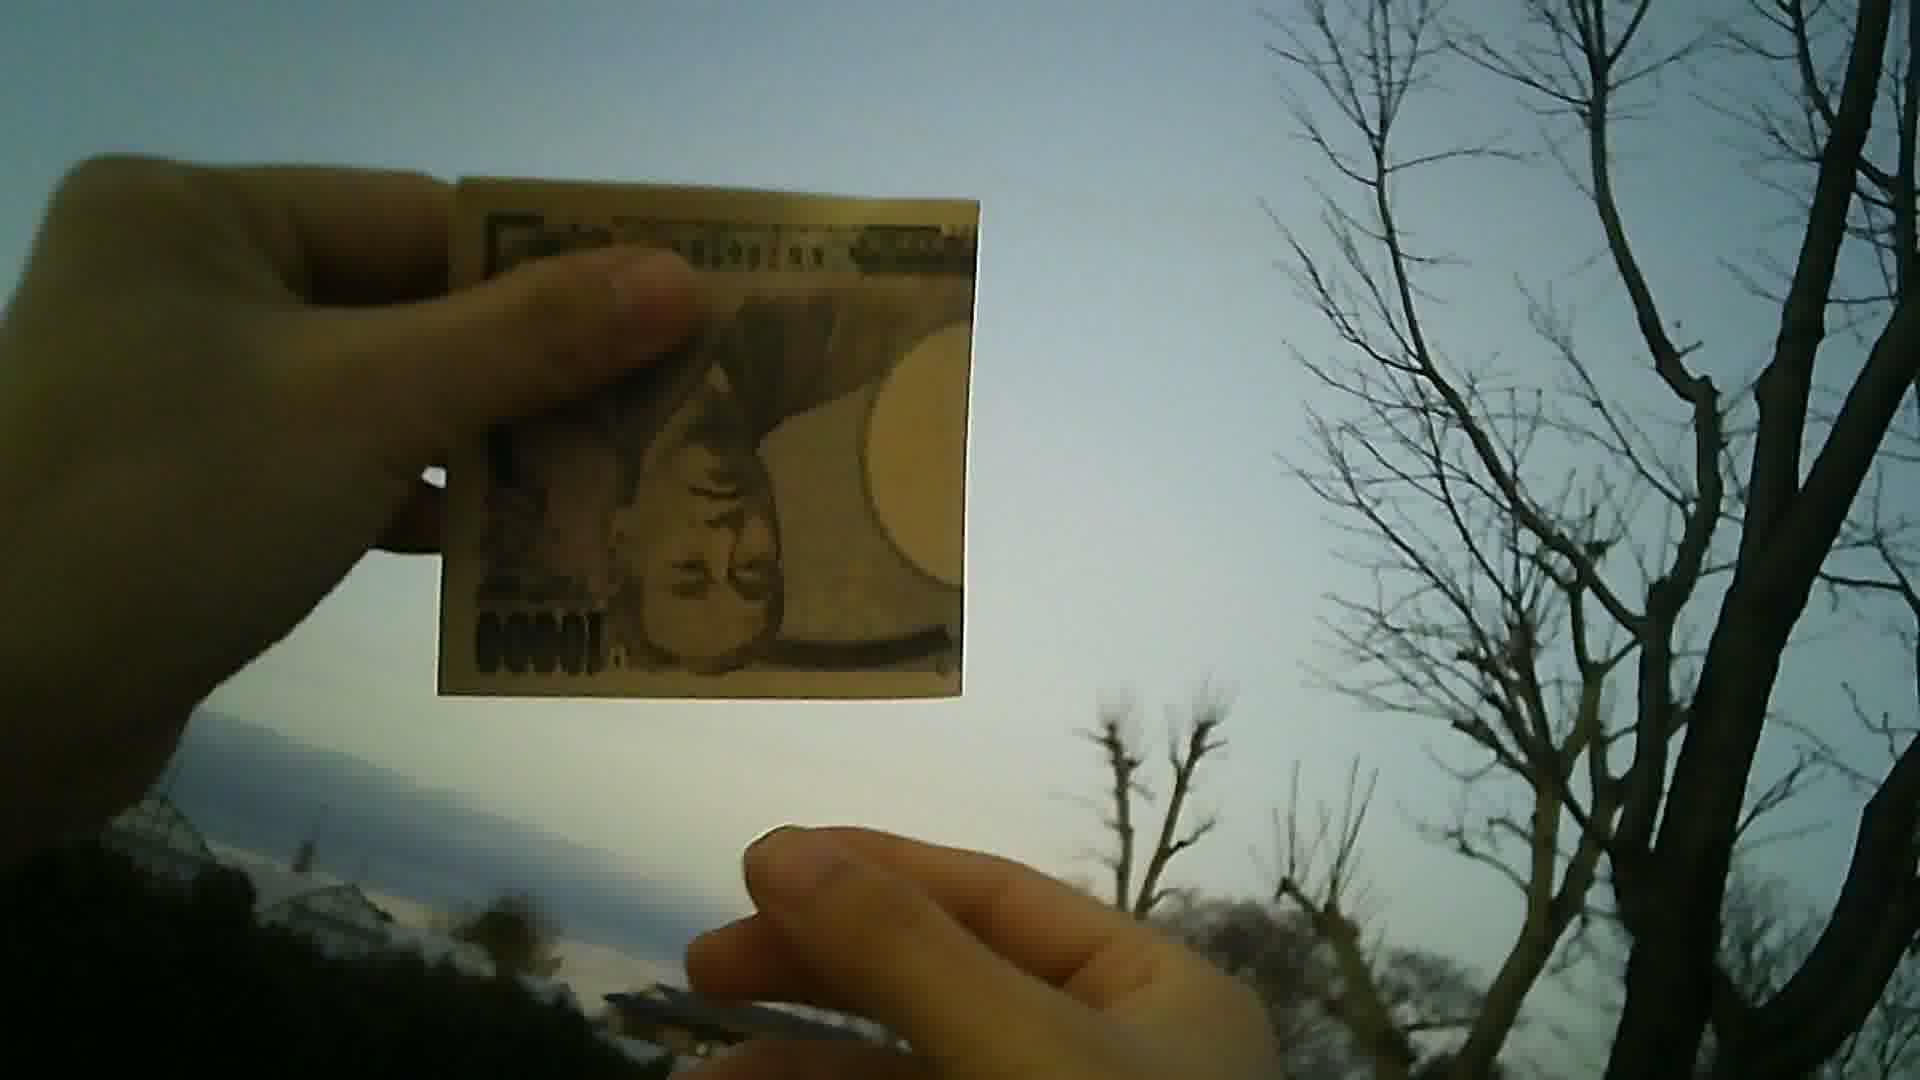10,000 Yen: (396, 161, 1004, 723)
